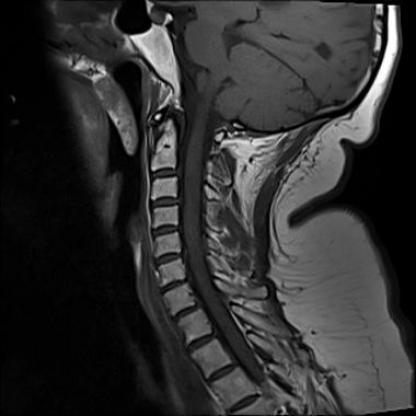Disc Protrusionrotation: (149, 195, 182, 210), (157, 280, 192, 293), (151, 252, 182, 265)
